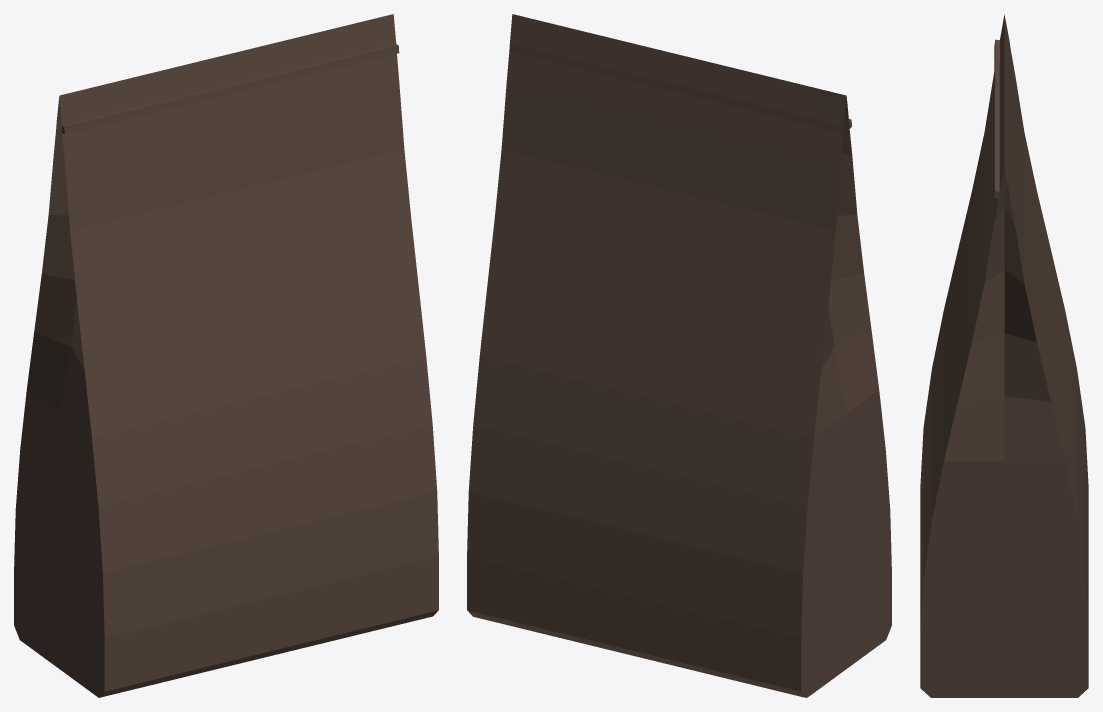
Rendered from side_gusset_plastic.glb.
3 renders of one model, left to right at view 1: azimuth 30°, elevation 25°; view 2: azimuth 150°, elevation 25°; view 3: azimuth 270°, elevation 25°, orthographic. The views are drawn at different scales.
Visible parts, largest first — view 1: side gusset; view 2: side gusset; view 3: side gusset.
Boxes of the visible parts, x1,y1,x2,y2 form: side gusset: [14, 14, 438, 697]; side gusset: [467, 14, 891, 697]; side gusset: [920, 14, 1088, 697].
Bounding box in the file's own units: 0.4132 × 0.6926 × 0.1939.
